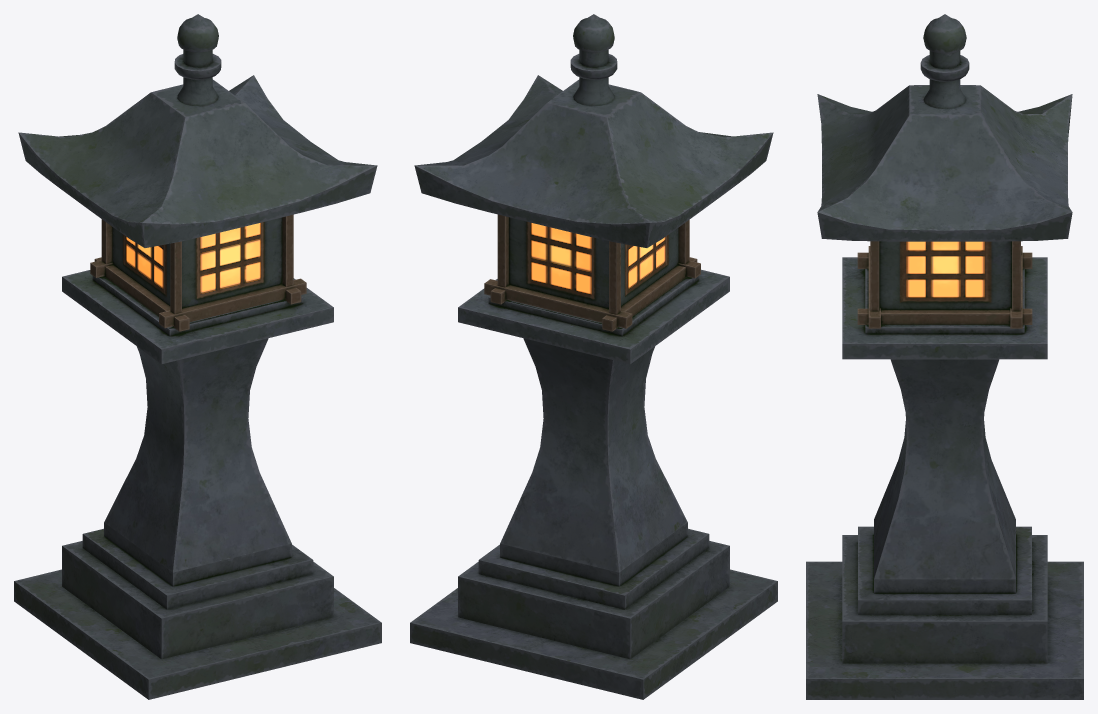
3 renders of one model, left to right at view 1: azimuth 30°, elevation 25°; view 2: azimuth 150°, elevation 25°; view 3: azimuth 270°, elevation 25°, orthographic. The views are drawn at different scales.
Parts seen in each view (by area): view 1: SM_StreetLight; view 2: SM_StreetLight; view 3: SM_StreetLight.
Part boxes in pixels (left/top/right/bottom): SM_StreetLight: left=14, top=14, right=381, bottom=699; SM_StreetLight: left=410, top=14, right=777, bottom=699; SM_StreetLight: left=806, top=14, right=1083, bottom=699.
Bounding box in the file's own units: 0.511 × 1.26 × 0.5061.
1 material, 1 textured.
